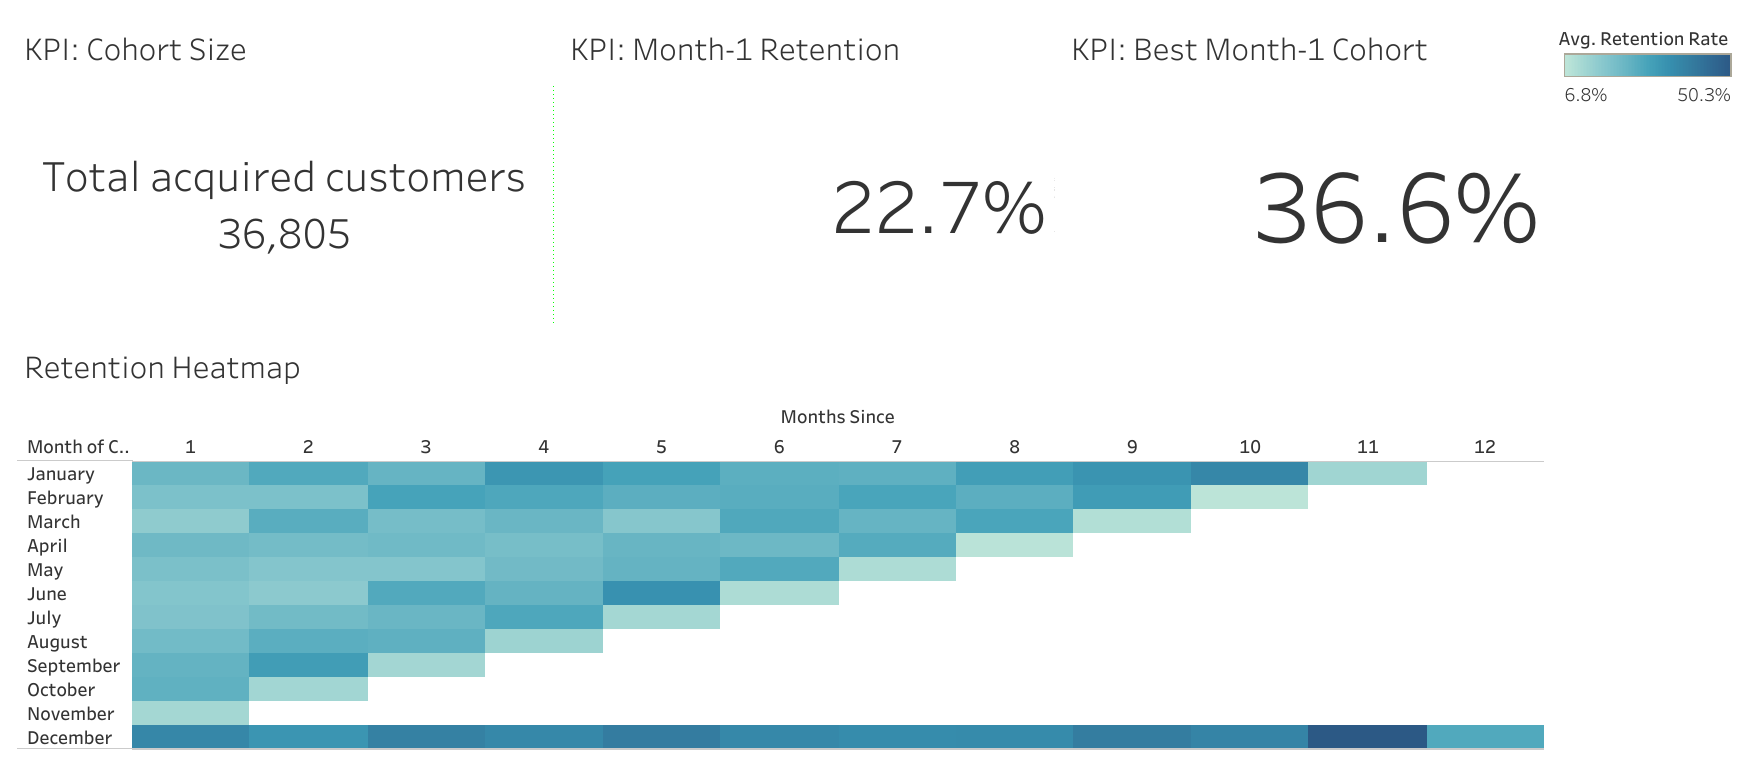

The dashboard page shown, as its layout file describes it:
{"tool":"tableau","page":{"name":"Dashboard 1","canvas":[1000,1000],"units":"permille","ordinal":0},"visuals":[{"type":"worksheet","title":"KPI: Cohort Size","mark":"Automatic","box":[4.7,8.8,212.5,419.2]},{"type":"worksheet","title":"KPI: Month-1 Retention","mark":"Automatic","box":[217.2,8.8,195,419.2]},{"type":"worksheet","title":"KPI: Best Month-1 Cohort","mark":"Text","box":[412.1,8.8,508.5,419.2]},{"type":"legend","title":"Retention Heatmap","param":"[federated.1jfwgaq1rmxtxw12a1jvr0qe2fa6].[avg:retention_rate:qk]","box":[920.6,8.8,74.7,71.9]},{"type":"worksheet","title":"Retention Heatmap","mark":"Square","rows":["cohort_month"],"cols":["months_since"],"box":[4.7,428.1,915.9,563.1]}]}

Visuals, with their boxes on the dashboard's canvas, which has no fixed pixel size, in thousandths of its width and height (x1, y1, x2, y2). These are canvas units, not pixel positions in the 1755x767 screenshot, which may show the page scaled, cropped or inside an application window:
"KPI: Cohort Size" worksheet: x1=5, y1=9, x2=217, y2=428
"KPI: Month-1 Retention" worksheet: x1=217, y1=9, x2=412, y2=428
"KPI: Best Month-1 Cohort" worksheet (Text marks): x1=412, y1=9, x2=921, y2=428
"Retention Heatmap" legend: x1=921, y1=9, x2=995, y2=81
"Retention Heatmap" worksheet (Square marks): x1=5, y1=428, x2=921, y2=991
